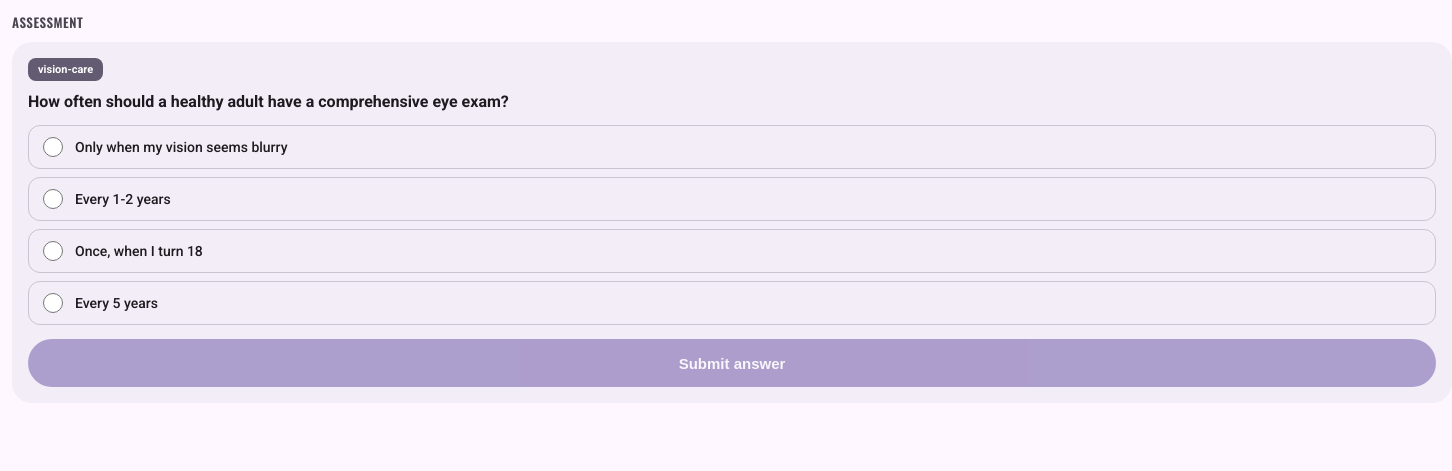
Test: MCQ knowledge check (US-18 / FR-E4) › shows the server's own message when a submission is refused
The image size is (1452, 471).
Click the radio button labelled "Every 1-2 years" at coordinates (53, 199), box 43,189 -> 63,209
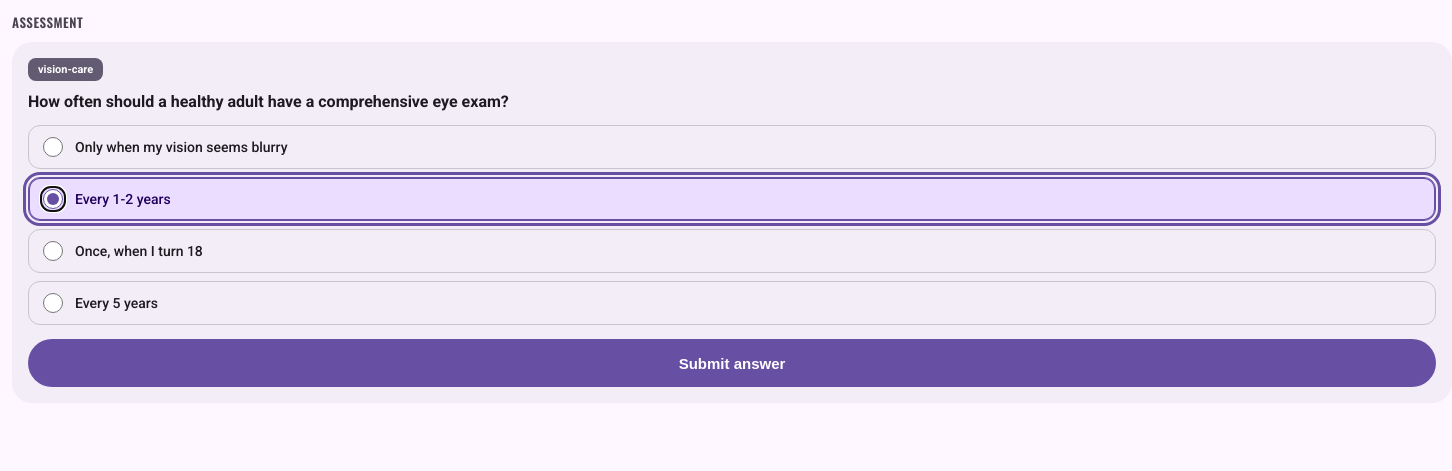
Click the button "Submit answer" at coordinates (732, 363), box 28,339 -> 1436,387
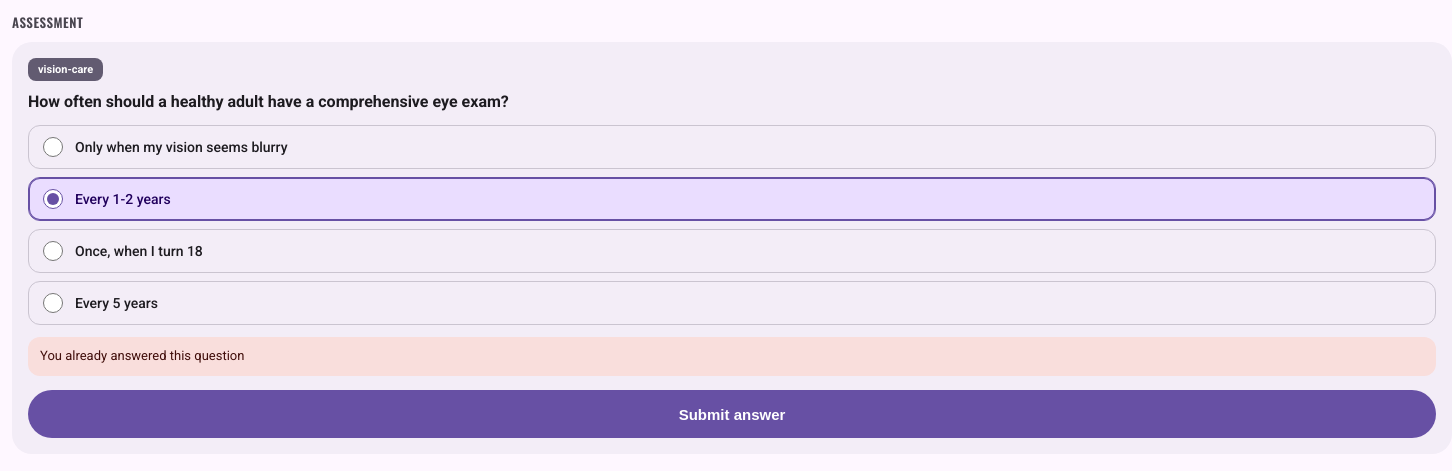
Expected: the message reads "You already answered this question", 40,348 -> 244,363
